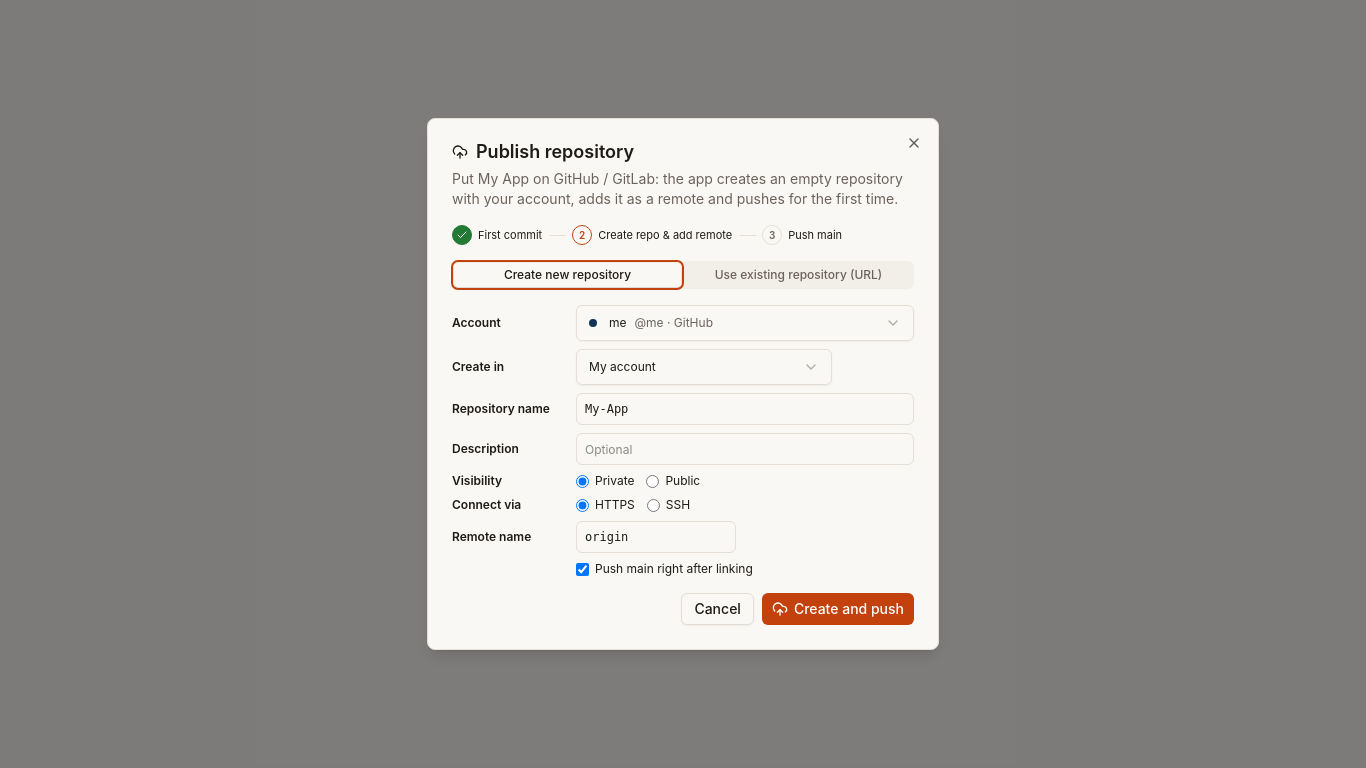
Test case: PublishDialog › creates the repository with the suggested name and shows the result
Expected: the field labelled "Repository name" holds "My-App", 576,393 -> 914,425
Click the button "Create and push". click: (838, 609)
box: 762,593 -> 914,625
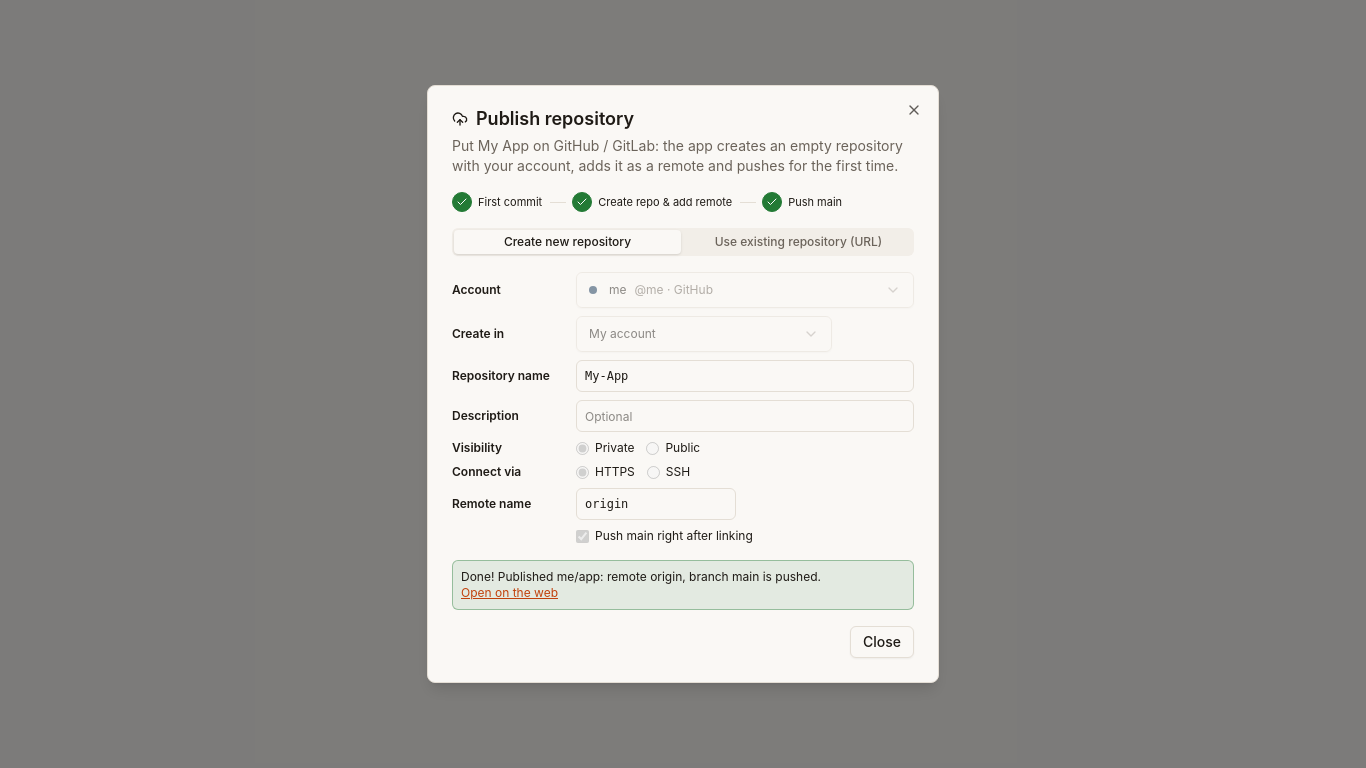
Now the text "Done! Published me/app: remote origin, branch main is pushed. Open on the web" is shown, box 452,560 -> 914,610
